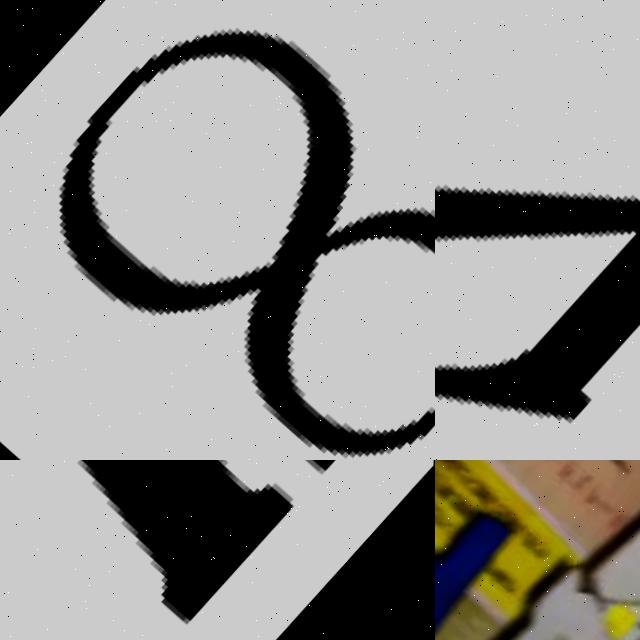7: (435, 0, 640, 460)
8: (0, 0, 435, 460)
Q: (435, 549, 640, 640)
T: (435, 460, 535, 640)
V: (0, 460, 405, 640)
Z: (546, 460, 640, 640)
